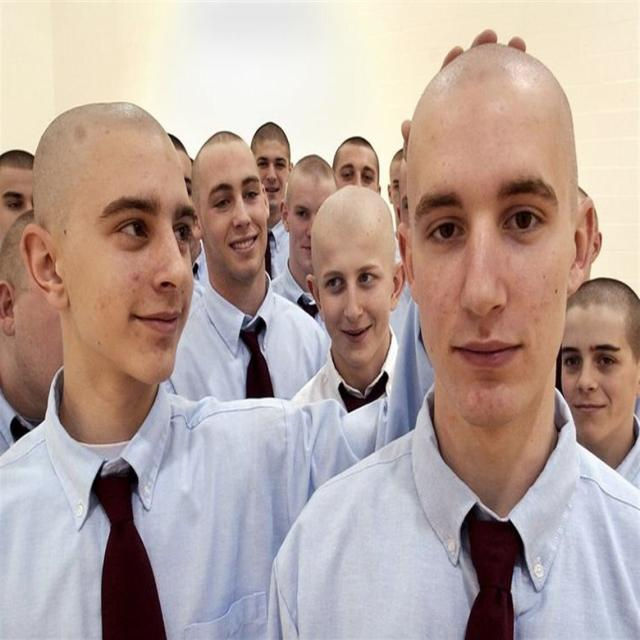no_helmet: (396, 35, 587, 200), (27, 98, 193, 238), (310, 183, 404, 284), (190, 126, 269, 215)
